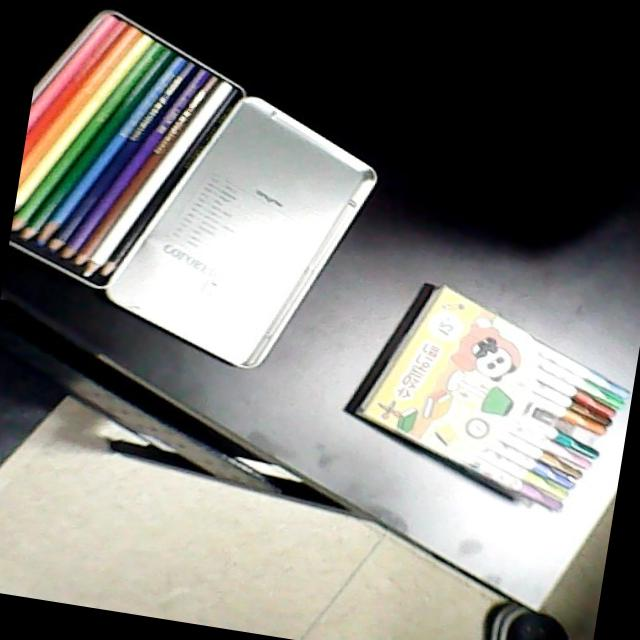color: (8, 3, 254, 293)
signpen: (341, 278, 632, 522)
